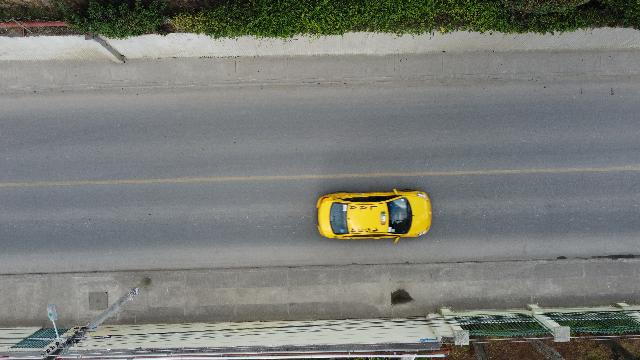Vehiculo: (316, 188, 432, 242)
